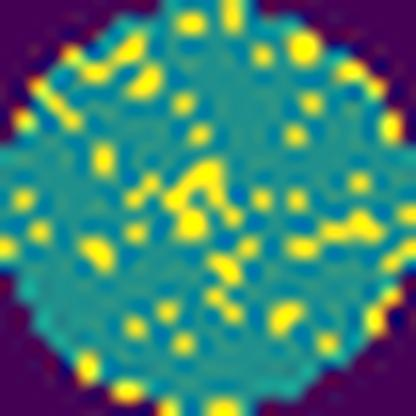Center: (158, 158, 244, 248)
